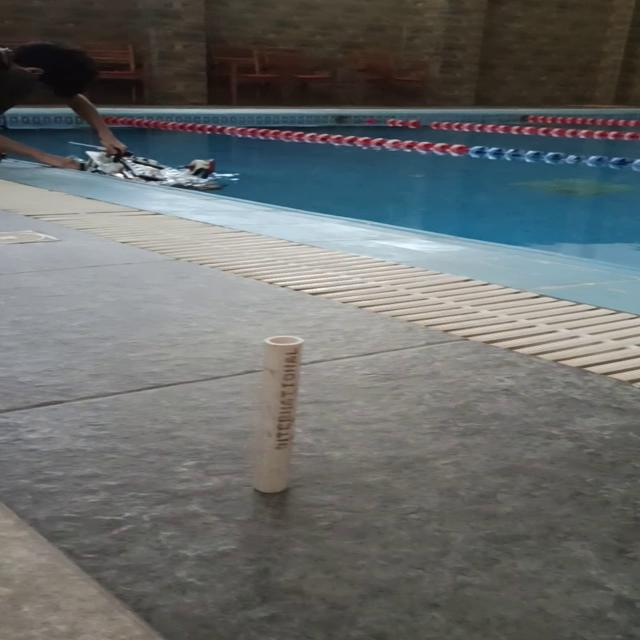Cube: (249, 334, 305, 494)
